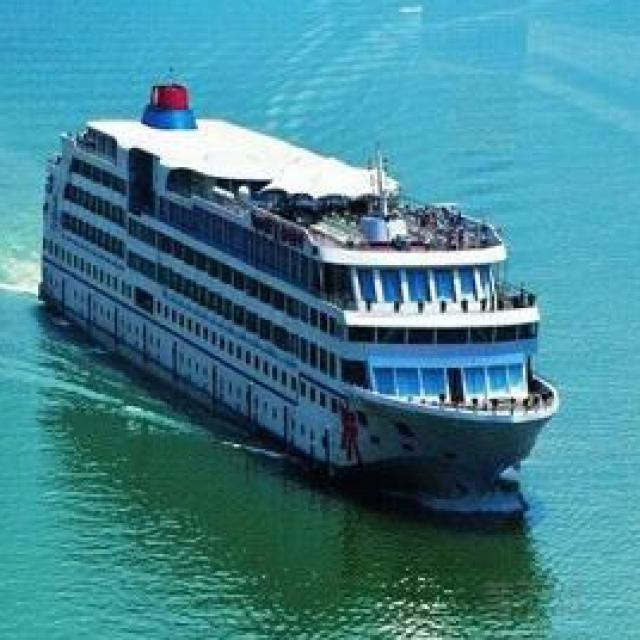passenger ship: (37, 69, 557, 522)
